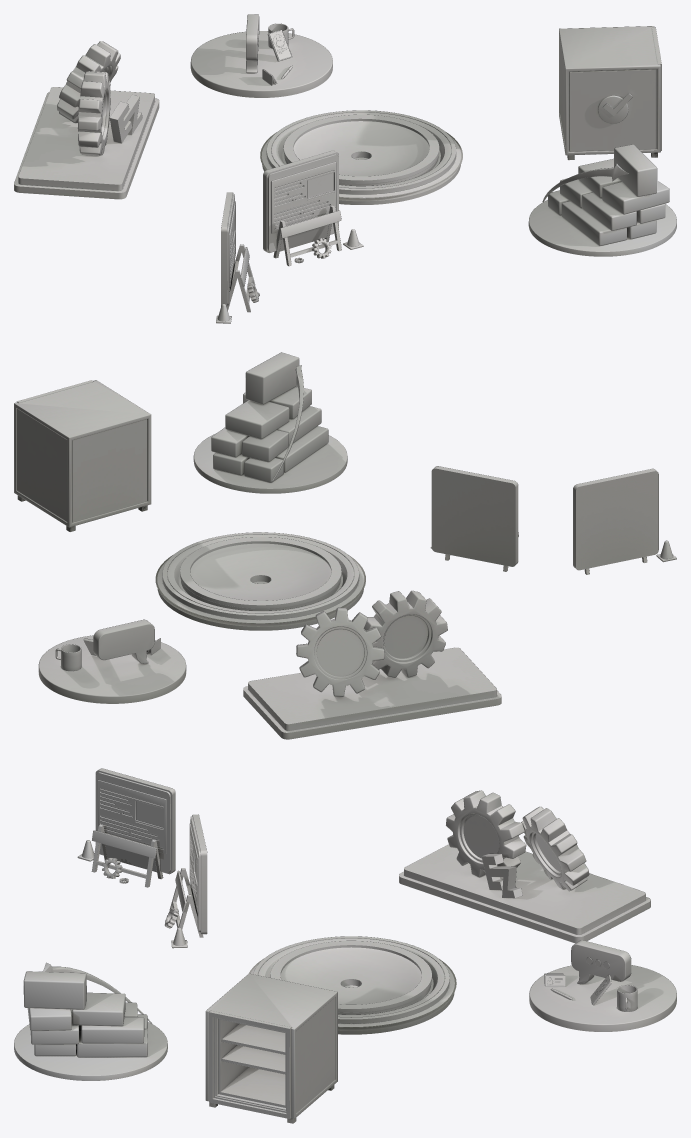
Rendered from folio_map.glb.
The picture shows the model from 3 angles, top to bottom: view 1: azimuth 30°, elevation 25°; view 2: azimuth 150°, elevation 25°; view 3: azimuth 270°, elevation 25°; orthographic projection. The views are drawn at different scales.
Visible parts, largest first — view 1: ezinvoices, core, audit_ready, bespoke_crm, interface, project_2, project_1; view 2: ezinvoices, audit_ready, core, bespoke_crm, interface, project_1, project_2; view 3: ezinvoices, audit_ready, bespoke_crm, core, interface, project_1, project_2.
Part boxes in pixels (left/top/right/bottom): ezinvoices: left=14, top=41, right=159, bottom=199; core: left=260, top=110, right=462, bottom=204; audit_ready: left=559, top=26, right=661, bottom=160; bespoke_crm: left=528, top=144, right=676, bottom=256; interface: left=190, top=14, right=332, bottom=97; project_2: left=263, top=150, right=363, bottom=266; project_1: left=216, top=192, right=259, bottom=323; ezinvoices: left=243, top=590, right=501, bottom=739; audit_ready: left=14, top=380, right=151, bottom=531; core: left=155, top=532, right=365, bottom=630; bespoke_crm: left=193, top=352, right=347, bottom=493; interface: left=38, top=619, right=186, bottom=703; project_1: left=573, top=468, right=676, bottom=574; project_2: left=430, top=466, right=518, bottom=571; ezinvoices: left=399, top=790, right=650, bottom=943; audit_ready: left=205, top=973, right=337, bottom=1123; bespoke_crm: left=14, top=962, right=167, bottom=1080; core: left=248, top=936, right=456, bottom=1034; interface: left=529, top=940, right=676, bottom=1031; project_1: left=77, top=768, right=175, bottom=887; project_2: left=164, top=814, right=207, bottom=948.
Size of what is drawn, in the model's own units: 44.97 by 7.22 by 44.89.
Materials: 8 (7 with a texture image).
